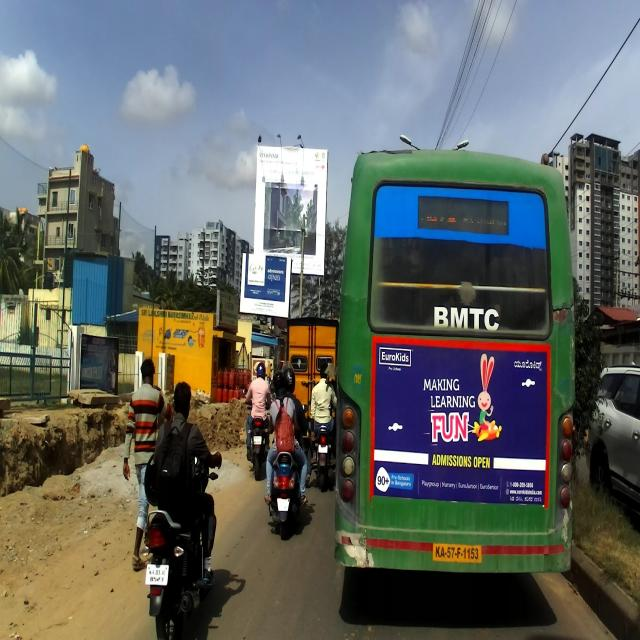bus: (331, 141, 576, 579)
motorcycle: (137, 448, 222, 638), (308, 404, 337, 494)
scooter: (262, 411, 306, 540)
